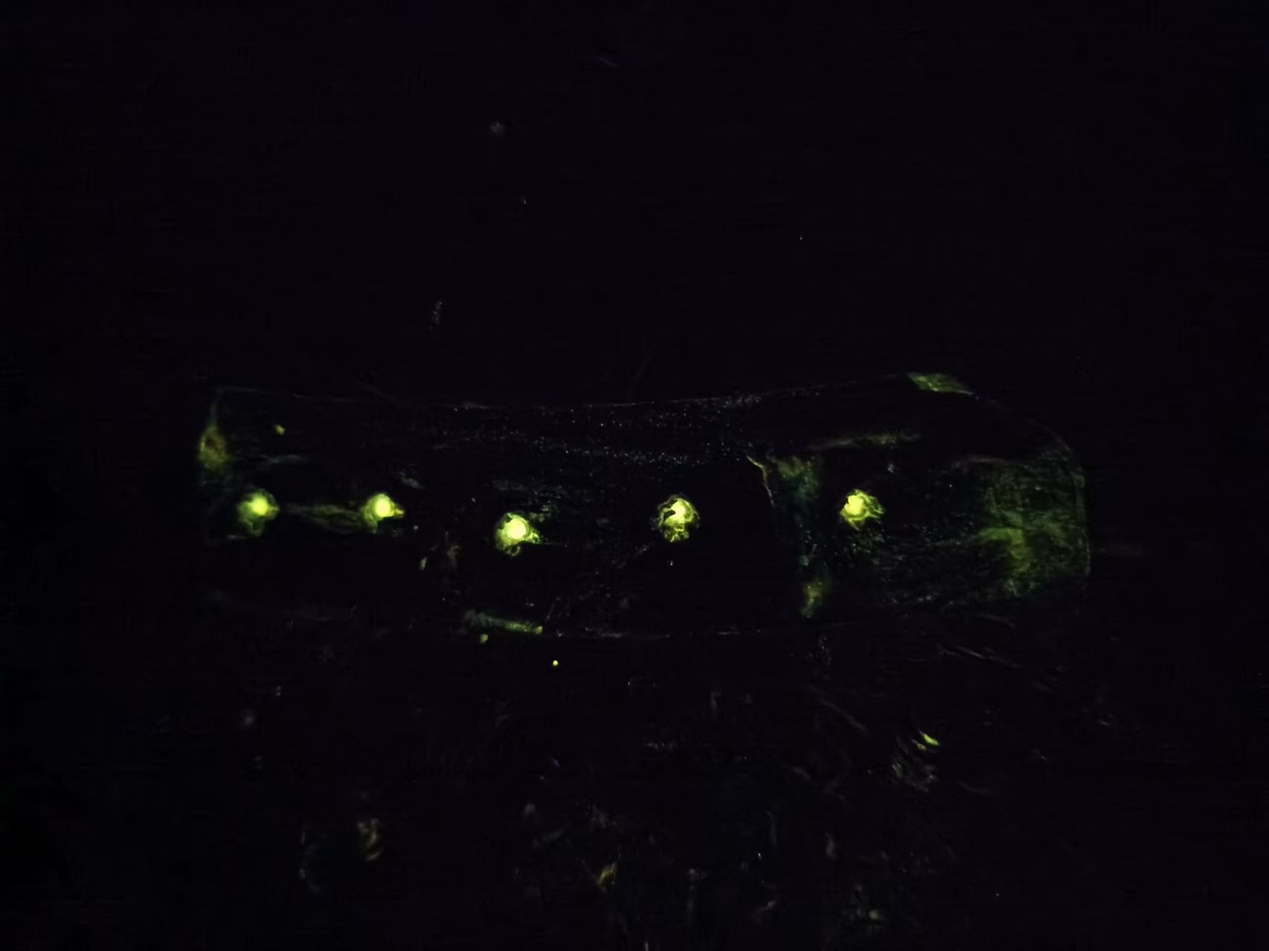Crater: (214, 484, 326, 558), (623, 482, 722, 556), (467, 492, 557, 565), (343, 465, 418, 550), (820, 474, 894, 538)
